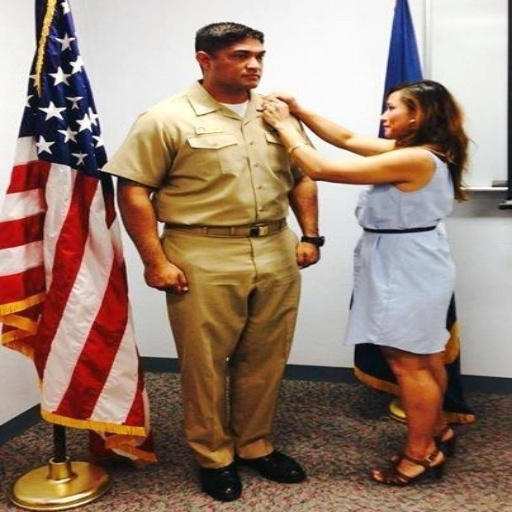hand: (134, 248, 183, 293), (261, 94, 286, 127), (264, 88, 301, 110), (292, 241, 321, 265)
